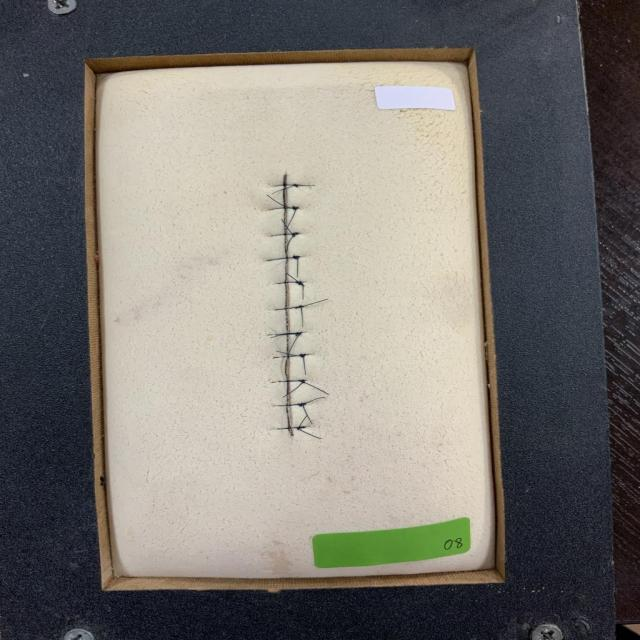knot: (293, 279, 307, 288), (292, 303, 307, 311), (293, 425, 309, 432), (295, 401, 310, 408), (290, 231, 303, 239), (289, 204, 301, 212), (293, 330, 305, 338), (296, 378, 309, 385), (296, 352, 309, 359), (291, 254, 303, 261), (291, 182, 303, 189)
leftover: (266, 194, 293, 209), (282, 381, 304, 398), (303, 382, 330, 395), (296, 427, 322, 439), (285, 208, 297, 230), (302, 298, 329, 307), (302, 403, 313, 425), (271, 184, 295, 194), (287, 335, 299, 355), (280, 218, 294, 235), (275, 350, 304, 357), (305, 396, 326, 404), (284, 272, 299, 283), (286, 235, 295, 253), (298, 415, 308, 428), (300, 306, 304, 328), (302, 355, 306, 376), (296, 258, 299, 278), (295, 184, 316, 186), (302, 285, 304, 300)
stitch: (266, 332, 302, 337), (274, 305, 304, 311), (272, 354, 307, 359), (275, 281, 304, 286), (273, 403, 307, 407), (266, 257, 299, 261), (272, 426, 304, 430), (268, 207, 297, 211), (269, 380, 305, 383), (270, 233, 295, 237), (273, 184, 298, 187)
wound: (284, 175, 292, 438)
